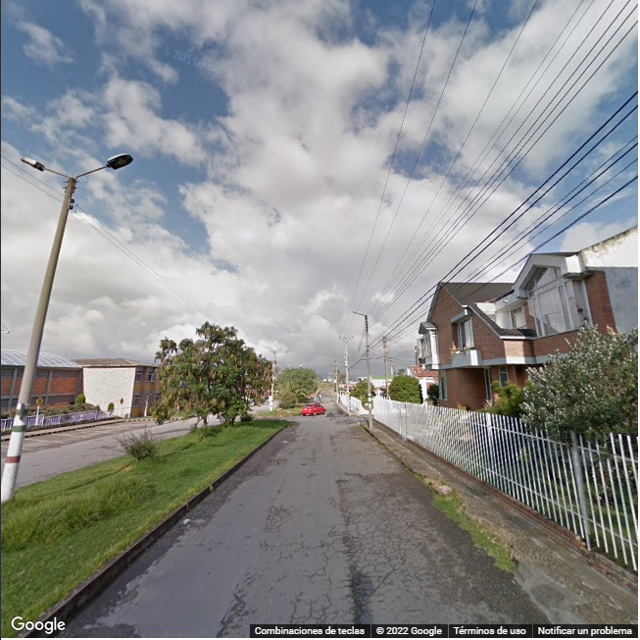D00: (284, 587, 305, 631), (324, 571, 332, 612)
D10: (255, 543, 301, 548)
D20: (354, 509, 398, 601)
